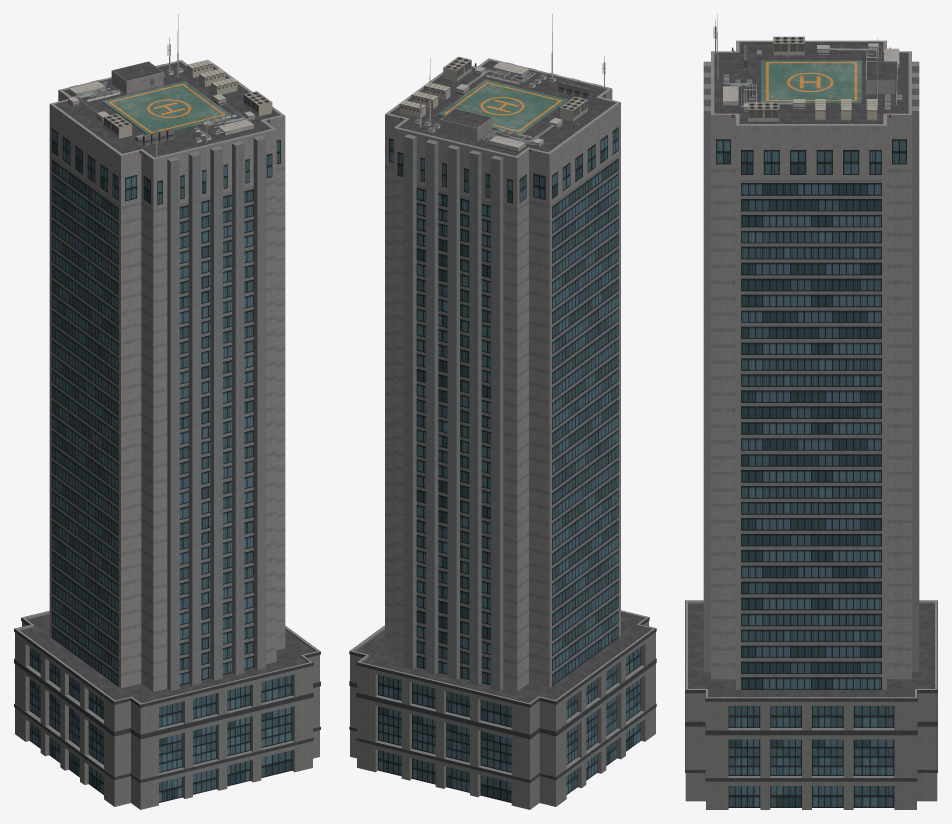
Rendered from building_Ca.FBX.
3 views of the same model, side by side, from view 1: azimuth 30°, elevation 25°; view 2: azimuth 150°, elevation 25°; view 3: azimuth 270°, elevation 25° (orthographic). The views are drawn at different scales.
Parts seen in each view (by area): view 1: building_Ca; view 2: building_Ca; view 3: building_Ca.
Boxes of the visible parts, bbox=[...] form: building_Ca: bbox=[14, 14, 320, 809]; building_Ca: bbox=[349, 14, 656, 809]; building_Ca: bbox=[685, 14, 937, 809].
Size of what is drawn, in the model's own units: 1979 by 1979 by 6395.
